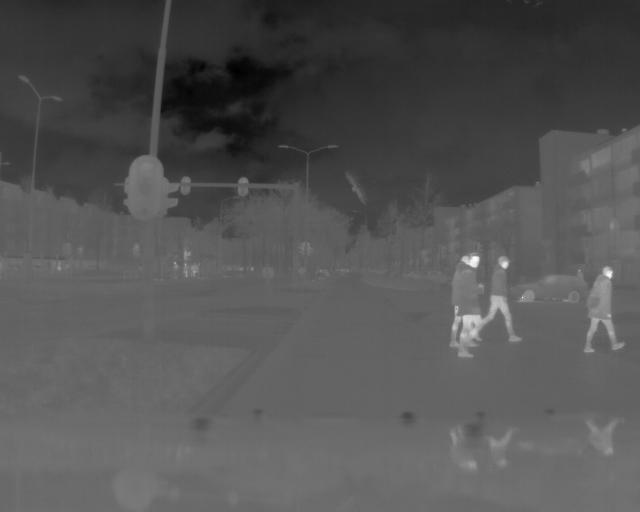car: (515, 273, 584, 304)
person: (588, 260, 628, 361), (484, 253, 522, 349), (454, 249, 481, 361)
